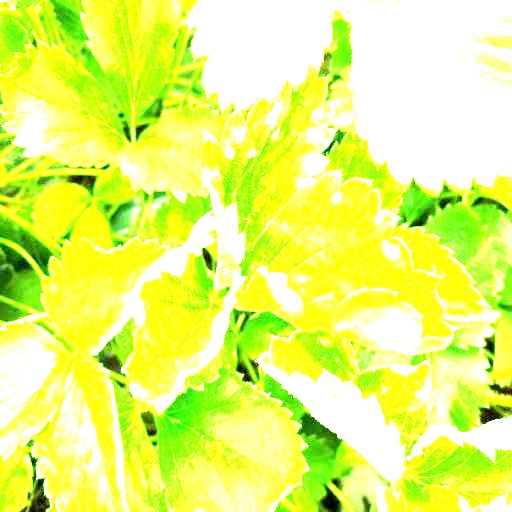Powdery Mildew Leaf: (233, 168, 458, 355), (198, 62, 339, 290), (256, 329, 437, 484), (120, 209, 243, 415), (375, 415, 511, 511)
